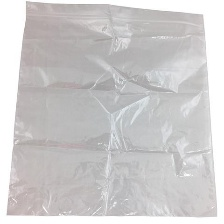plastic_bag: (0, 0, 220, 219)
